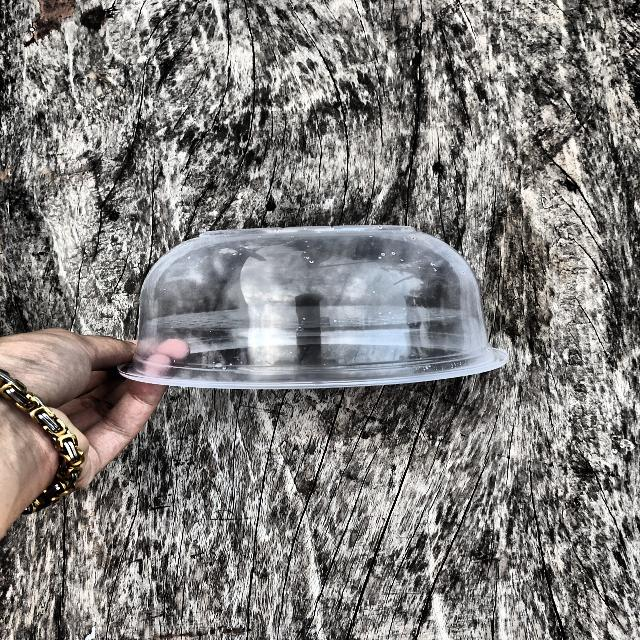plastic container: (97, 218, 515, 412)
